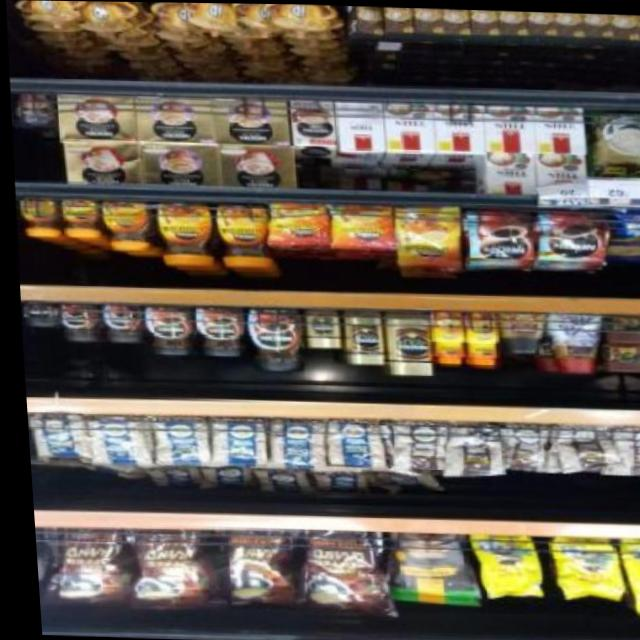Coffee: (460, 206, 532, 266), (392, 202, 459, 265), (150, 200, 209, 267), (533, 207, 603, 262), (211, 201, 265, 269), (242, 306, 297, 371), (377, 310, 427, 374), (326, 204, 392, 247), (98, 200, 150, 251), (190, 305, 241, 356), (266, 202, 326, 245), (141, 304, 188, 354), (338, 307, 378, 362), (459, 310, 495, 366), (425, 310, 458, 365), (58, 199, 98, 238), (98, 303, 137, 342), (17, 198, 56, 237), (57, 302, 94, 341), (298, 308, 335, 347), (17, 302, 54, 327)
